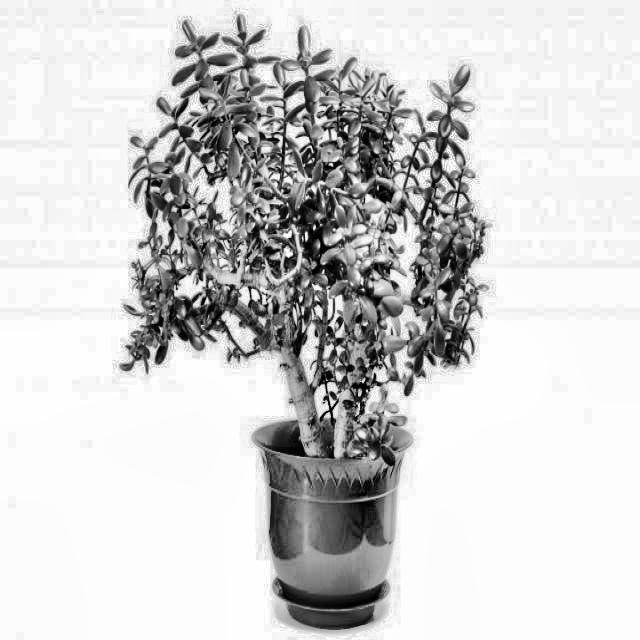plants: (124, 51, 524, 440)
